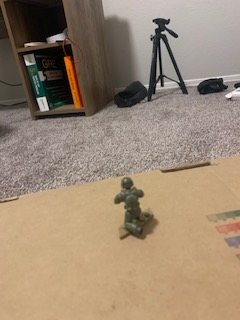soldier: (112, 175, 156, 240)
